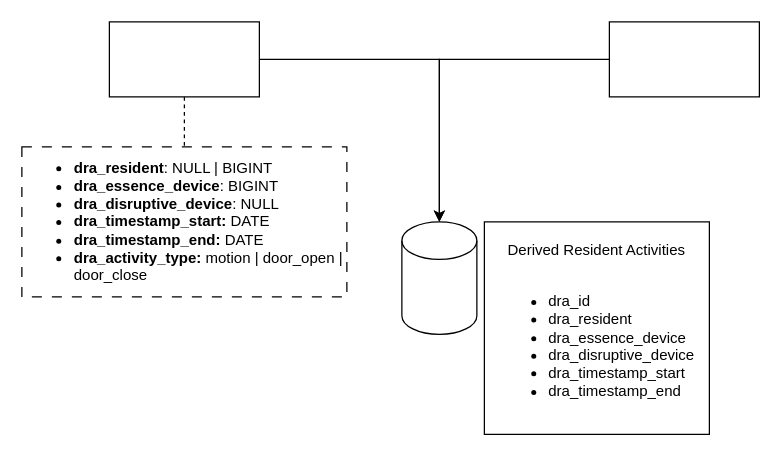
The diagram is 781 pixels wide and 456 high, and some of its shapes have lost their labels. The shapes that lost their labels are listed below. From the top down, each one's centre as x and y in pixels, then its label:
At point 183,59: "Evergreen".
At point 683,59: "Dogwood".
